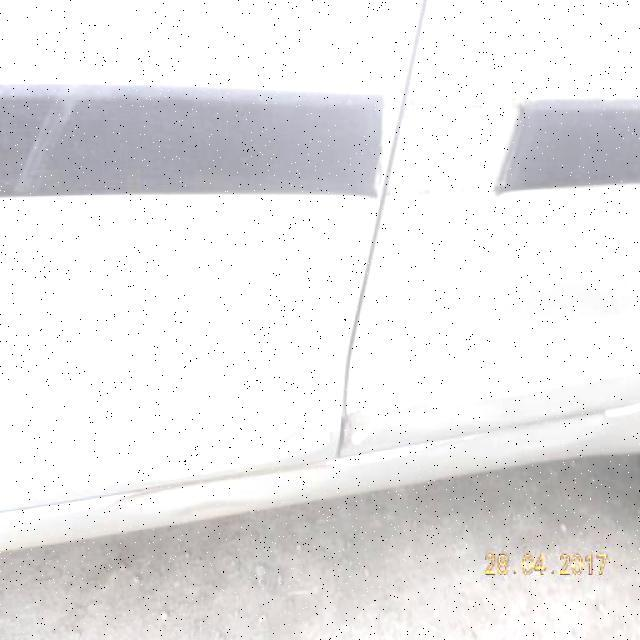car damage: (378, 92, 524, 201), (384, 398, 513, 420), (271, 417, 331, 462), (344, 404, 377, 446)
